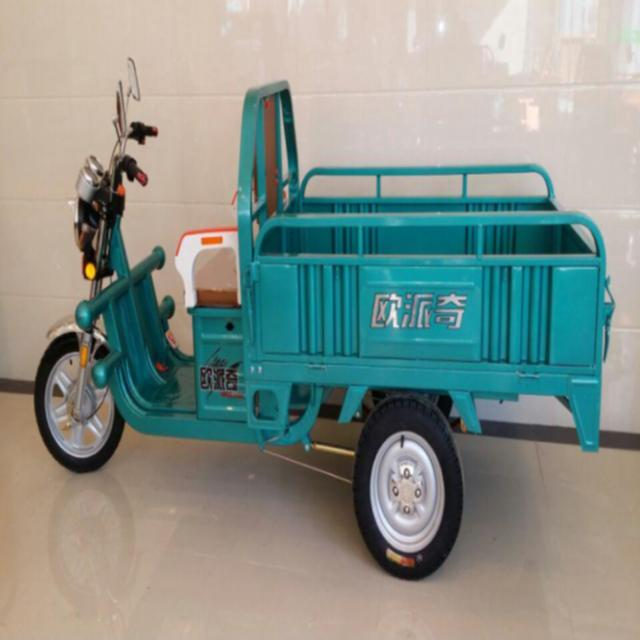tricycle: (31, 58, 618, 581)
